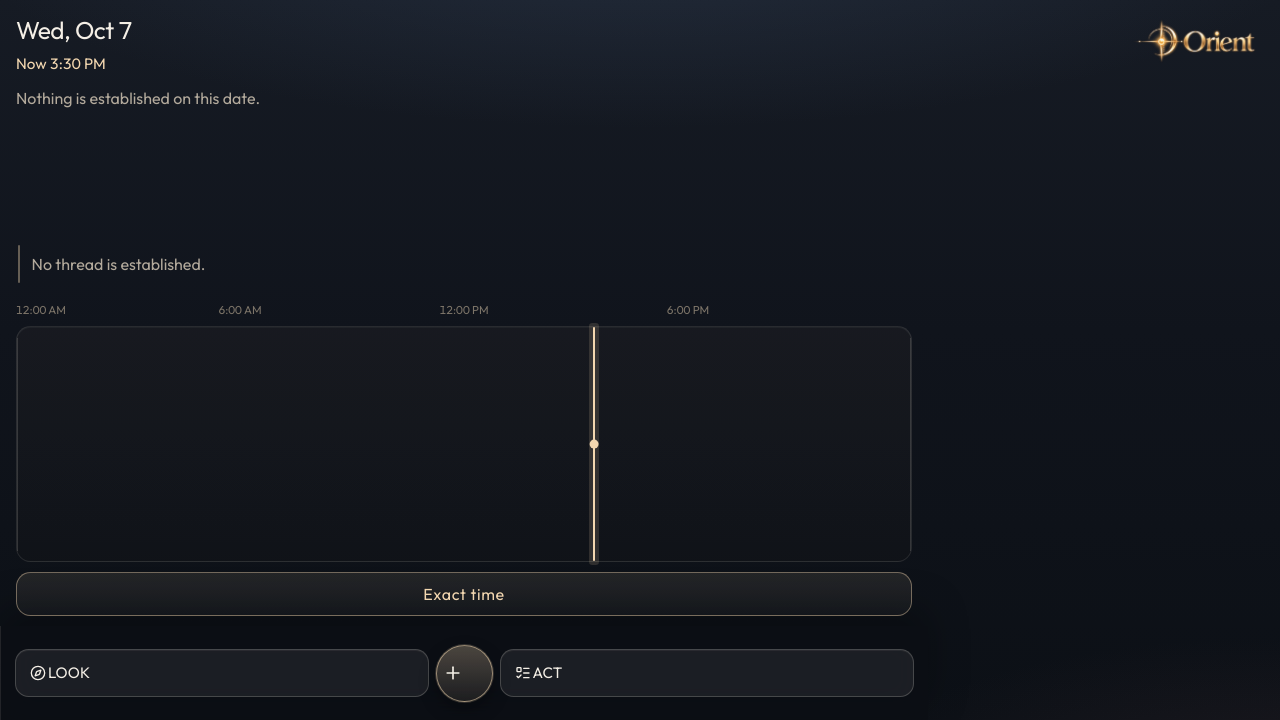
Test case: LOOK · ADD · ACT phone grammar › phone LOOK Position Focus and Operations disclosures expand with existing behavior
Click the button "LOOK".
click(69, 672)  # box [15,649,429,697]
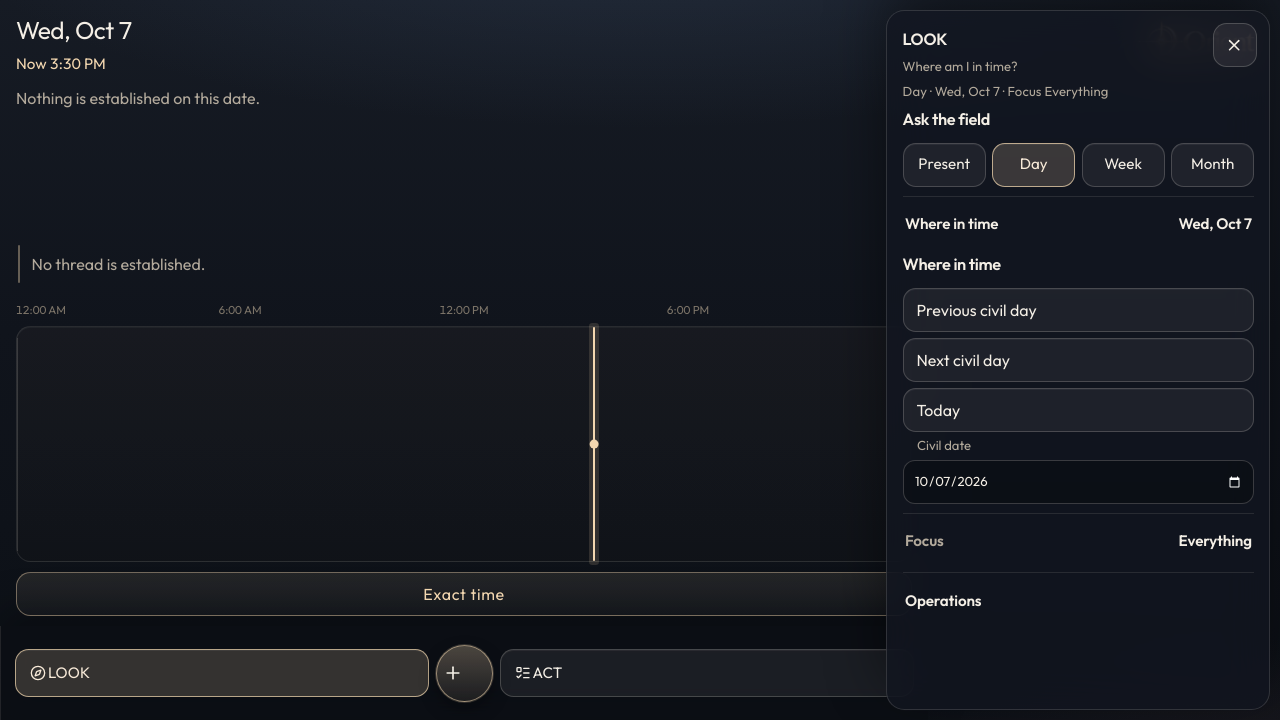
Expected: the element that starts with "Where in time" shows "Previous civil day", [903,288,1254,332]
Expected: the date field with id "orient-civil-date" is shown, [903,460,1254,504]
Click the button "Next civil day".
click(963, 360)  # box [903,338,1254,382]
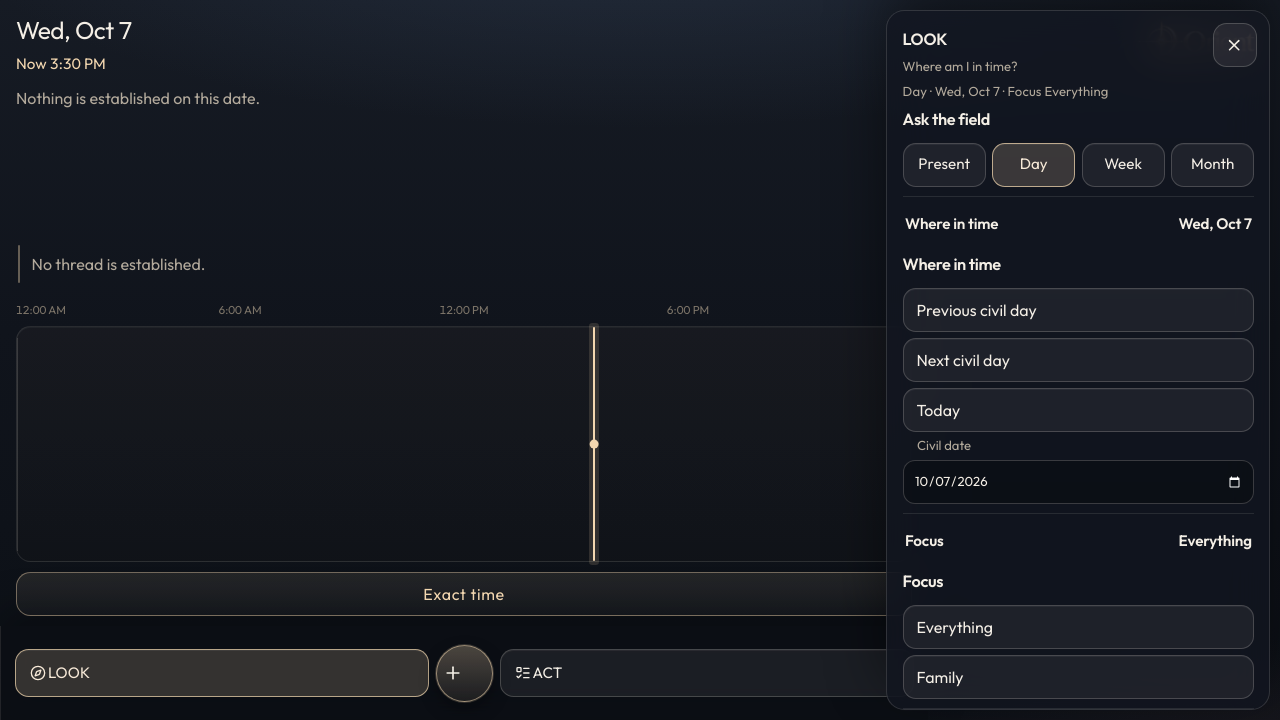
Expected: the text "Wed, Oct 7" below "Ask the field" is shown, [1179,214,1252,233]
Click the button "Family".
click(940, 677)  # box [903,655,1254,699]
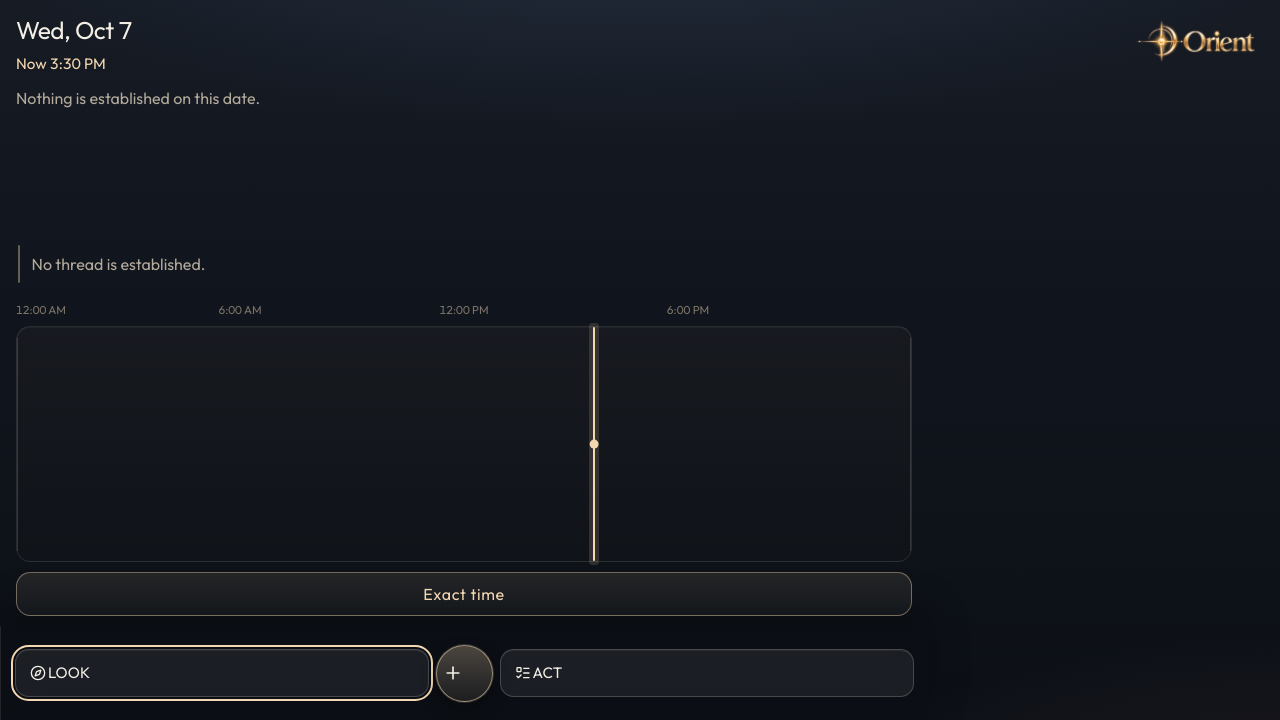
Click the button "LOOK".
click(69, 672)  # box [15,649,429,697]
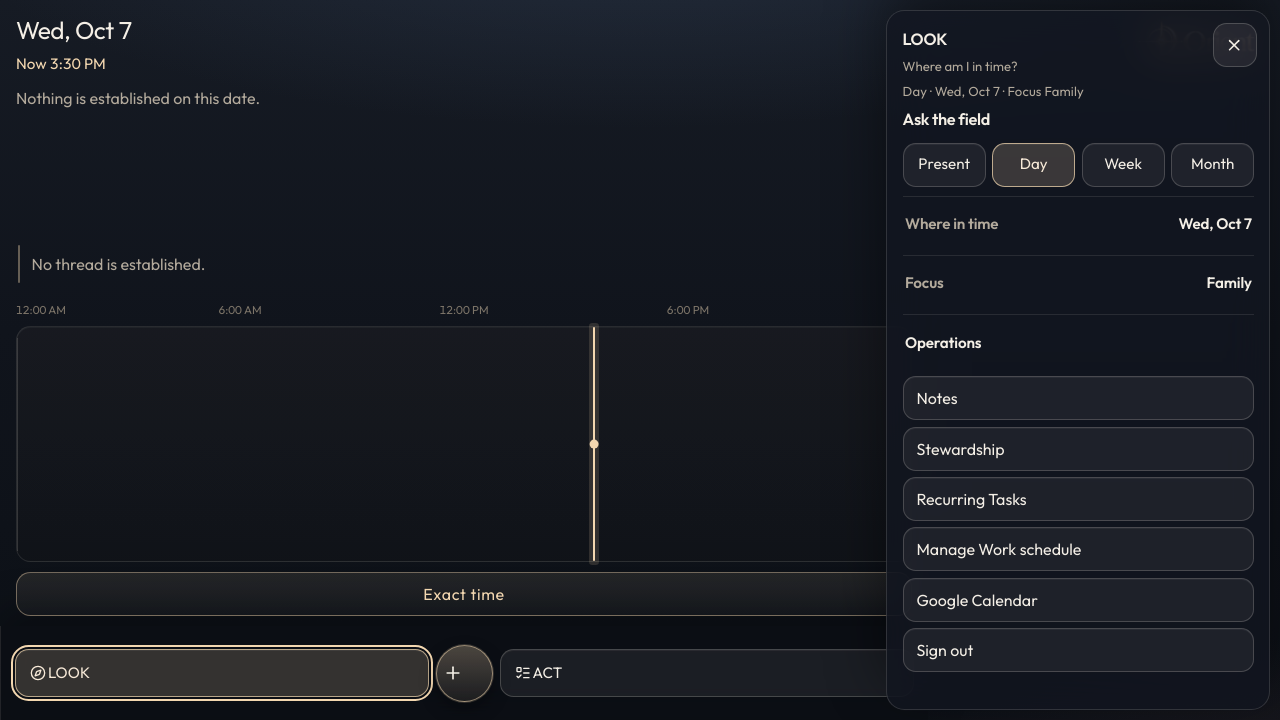
Expected: the text "Family" is shown, [1207,272,1252,295]
Expected: the text "Day · Wed, Oct 7 · Focus Family" is shown, [903,82,1084,102]
Expected: the button "Notes" is shown, [903,376,1254,420]
